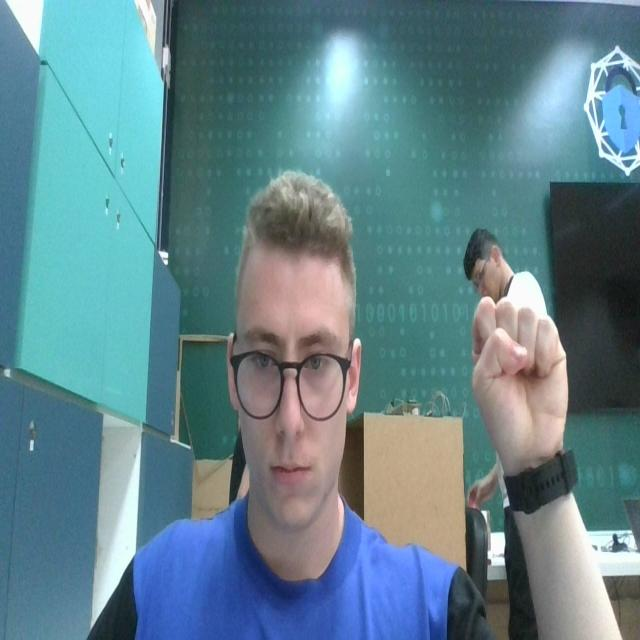S: (466, 288, 573, 464)
